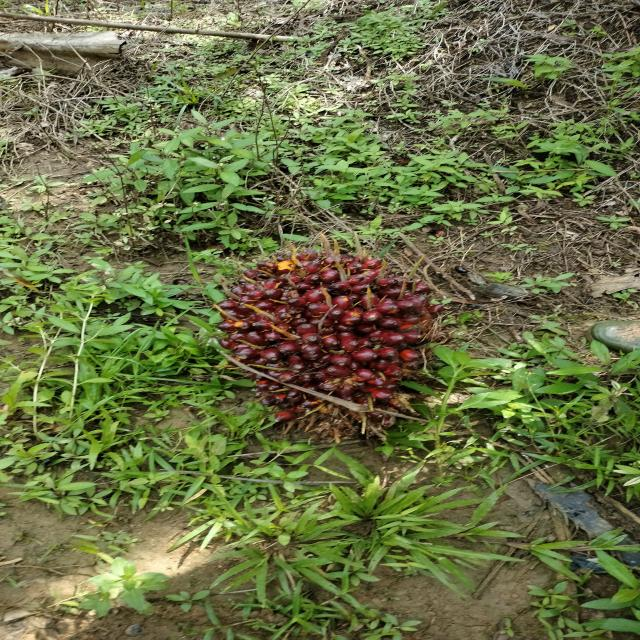fraksi 3: (186, 224, 487, 474)
